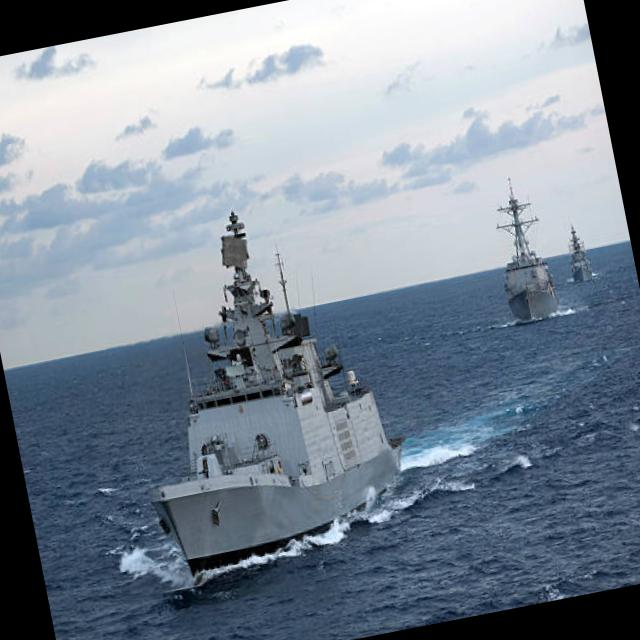Military: (151, 218, 401, 583), (502, 183, 562, 326), (564, 225, 589, 281)
